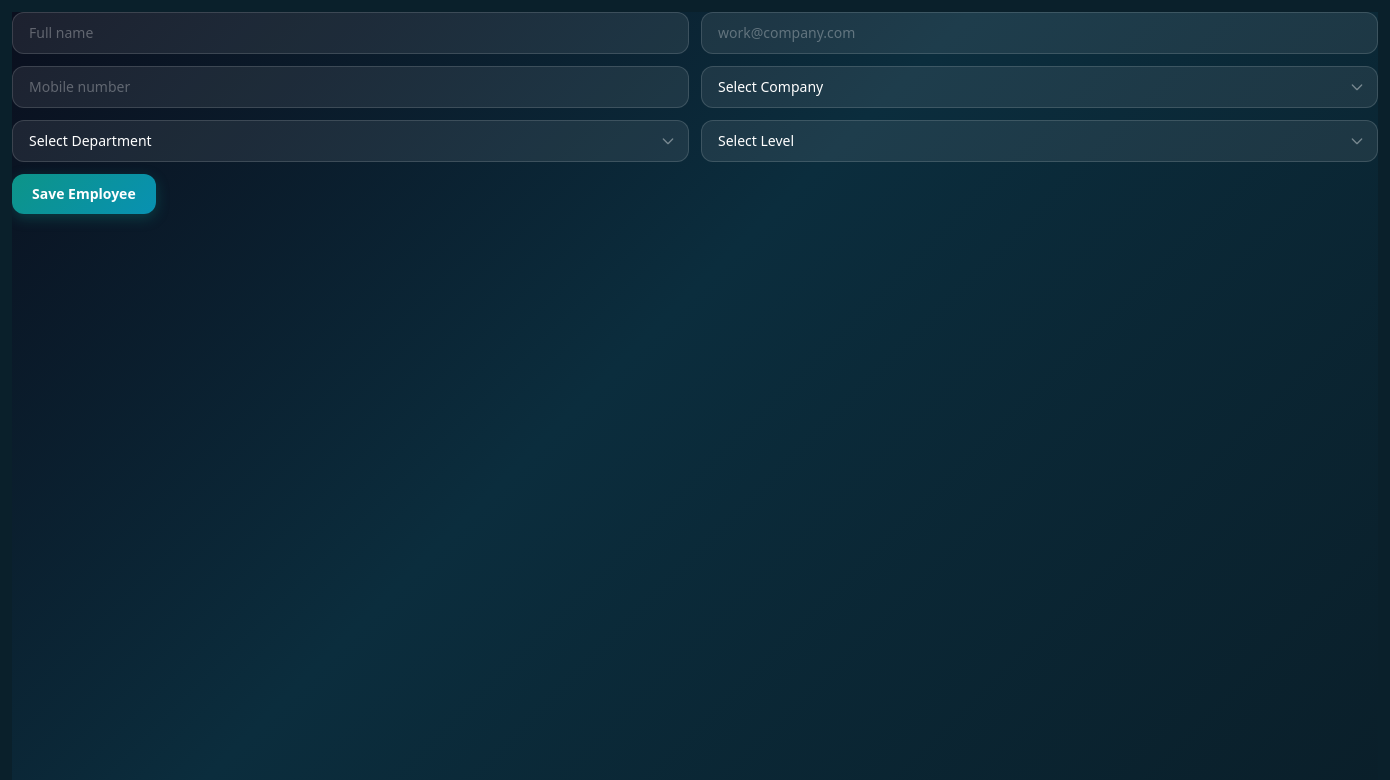
Test case: EmployeeForm › shows error if name is empty on submit
Click the button "Save Employee". click: (84, 194)
box: [12,174,156,214]
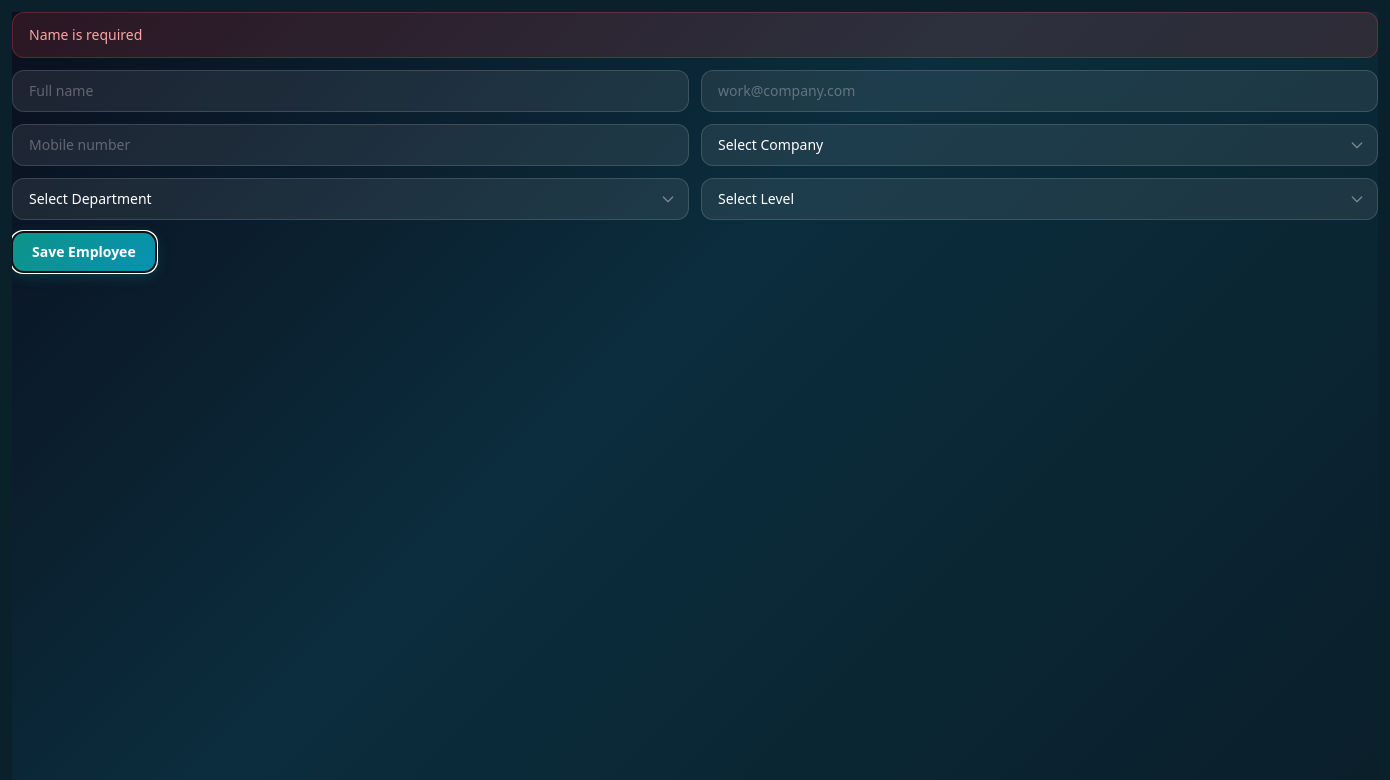
Now the text "Name is required" is shown, box [12,12,1378,58]
